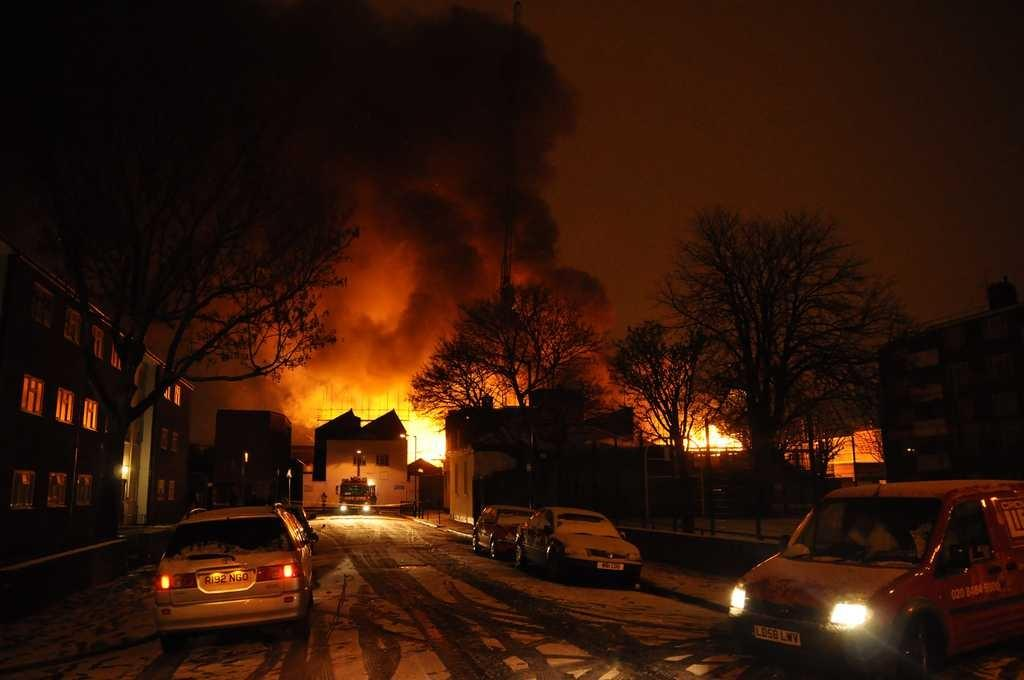fire: (300, 387, 402, 418), (405, 415, 450, 463), (688, 423, 737, 452)
